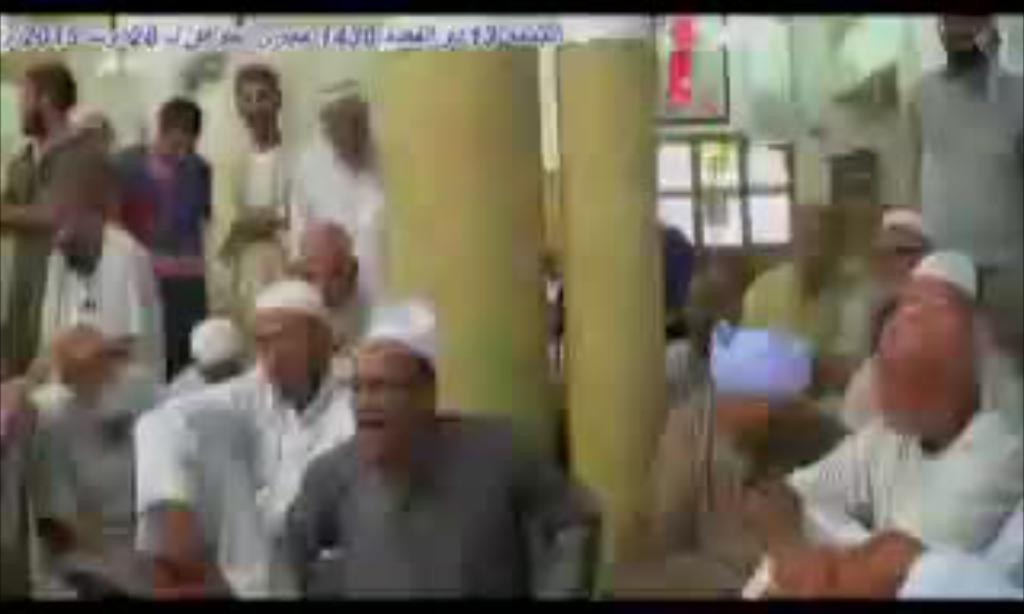Human-face: (349, 352, 419, 460), (256, 313, 323, 397)
